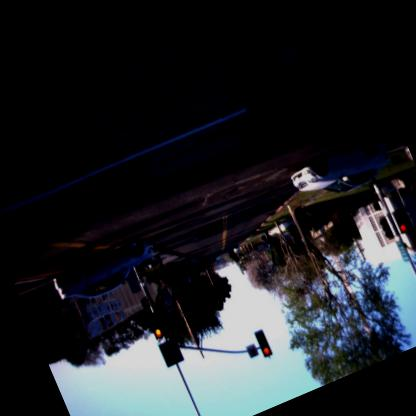trafficlight: (254, 328, 272, 356), (392, 209, 410, 233)
